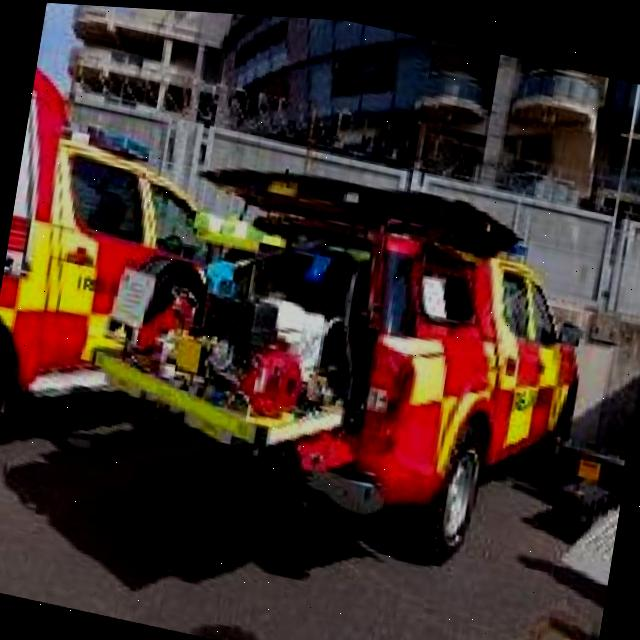emergency: (72, 122, 605, 586)
